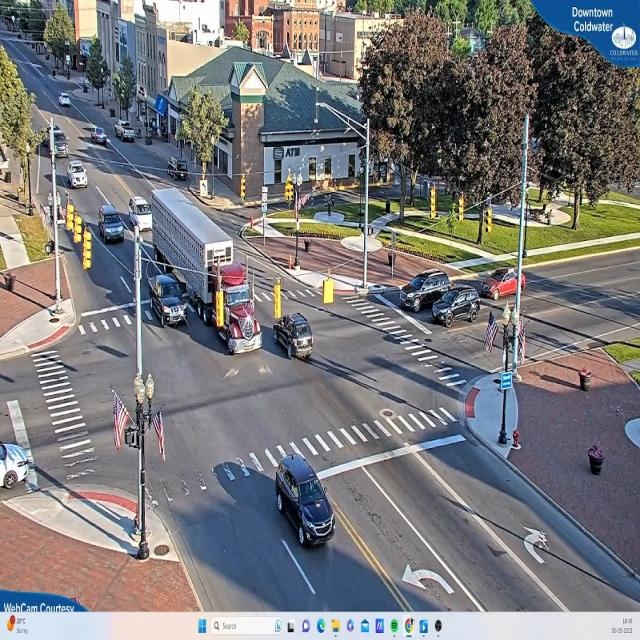car: (274, 447, 337, 551), (400, 272, 455, 314), (150, 270, 188, 326), (274, 312, 314, 361), (432, 288, 480, 327), (483, 270, 528, 304), (99, 208, 125, 245), (66, 159, 88, 188), (129, 197, 153, 222), (117, 121, 137, 145), (92, 128, 107, 144)
truck: (191, 218, 273, 378)
